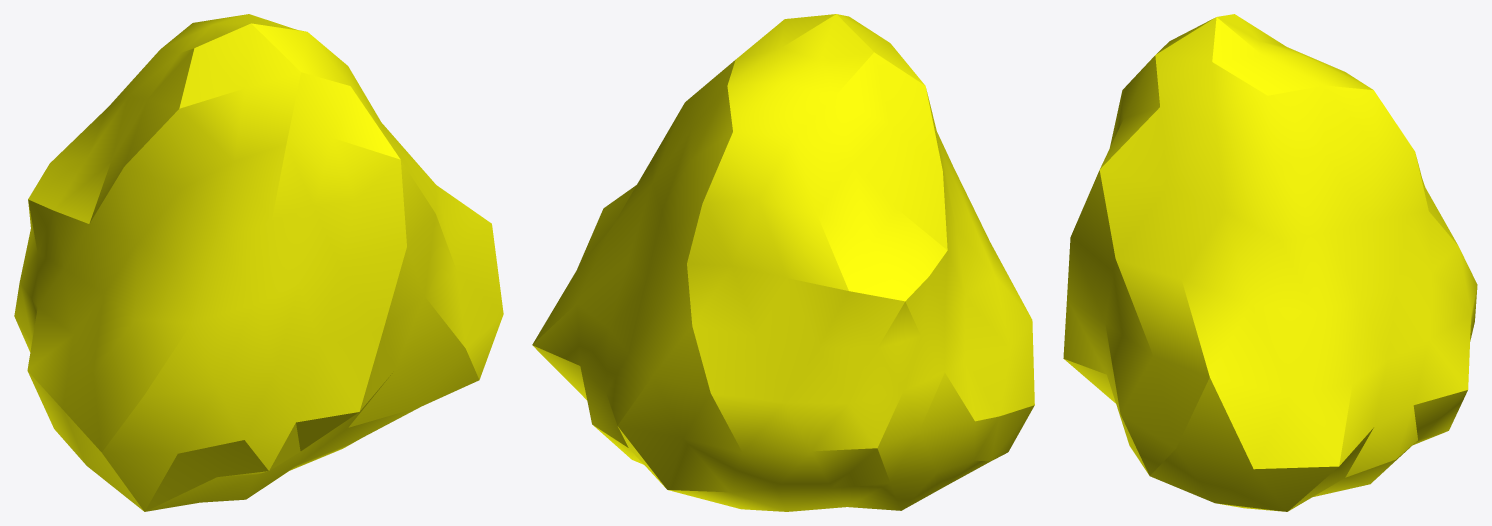
Rendered from kaykit-rock-3-o-color-1.glb.
3 views of the same model, side by side, from view 1: azimuth 30°, elevation 25°; view 2: azimuth 150°, elevation 25°; view 3: azimuth 270°, elevation 25° (orthographic). The views are drawn at different scales.
Visible parts, largest first — view 1: Rock_3_O_Color1; view 2: Rock_3_O_Color1; view 3: Rock_3_O_Color1.
Part boxes in pixels (x1,y1,x2,y2): Rock_3_O_Color1: [14, 14, 503, 511]; Rock_3_O_Color1: [532, 14, 1034, 511]; Rock_3_O_Color1: [1063, 14, 1477, 511].
Size of the model in its own units: 3.48 by 3.47 by 2.93.
